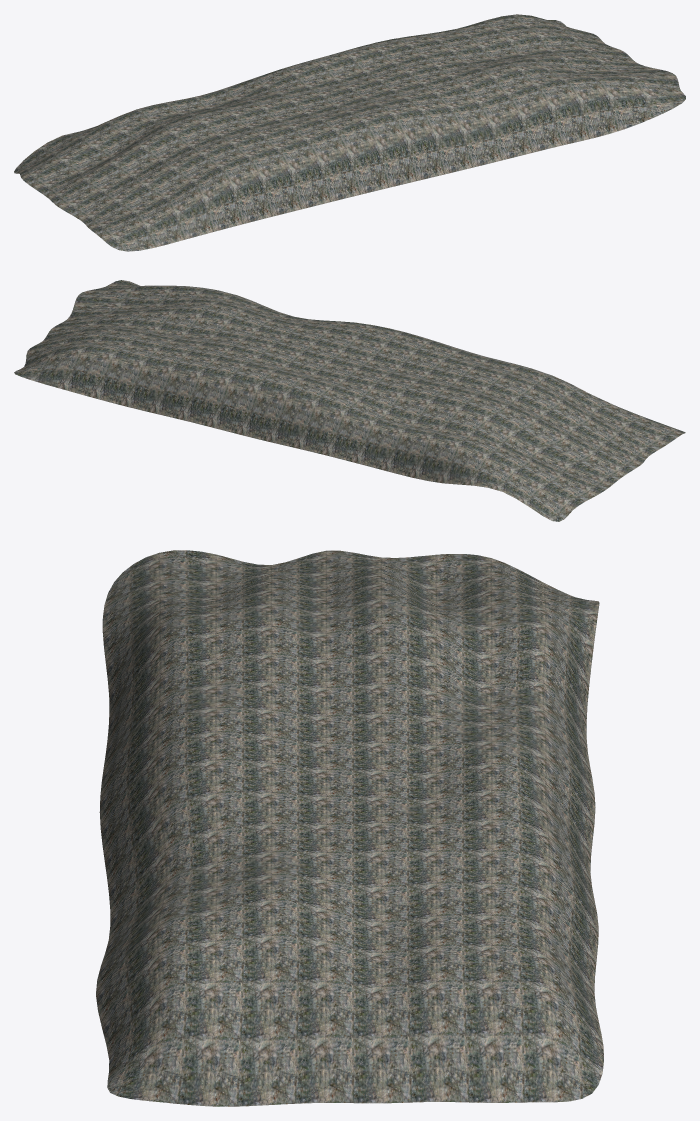
The model's file is terrain.obj.
3 renders of one model, top to bottom at view 1: azimuth 30°, elevation 25°; view 2: azimuth 150°, elevation 25°; view 3: azimuth 270°, elevation 25°, orthographic. The views are drawn at different scales.
Visible parts, largest first — view 1: Grid; view 2: Grid; view 3: Grid.
Part boxes in pixels (left/top/right/bottom): Grid: left=14, top=14, right=685, bottom=251; Grid: left=14, top=280, right=685, bottom=521; Grid: left=96, top=550, right=603, bottom=1106.
Size of the model in its own units: 110 by 10.35 by 41.12.
